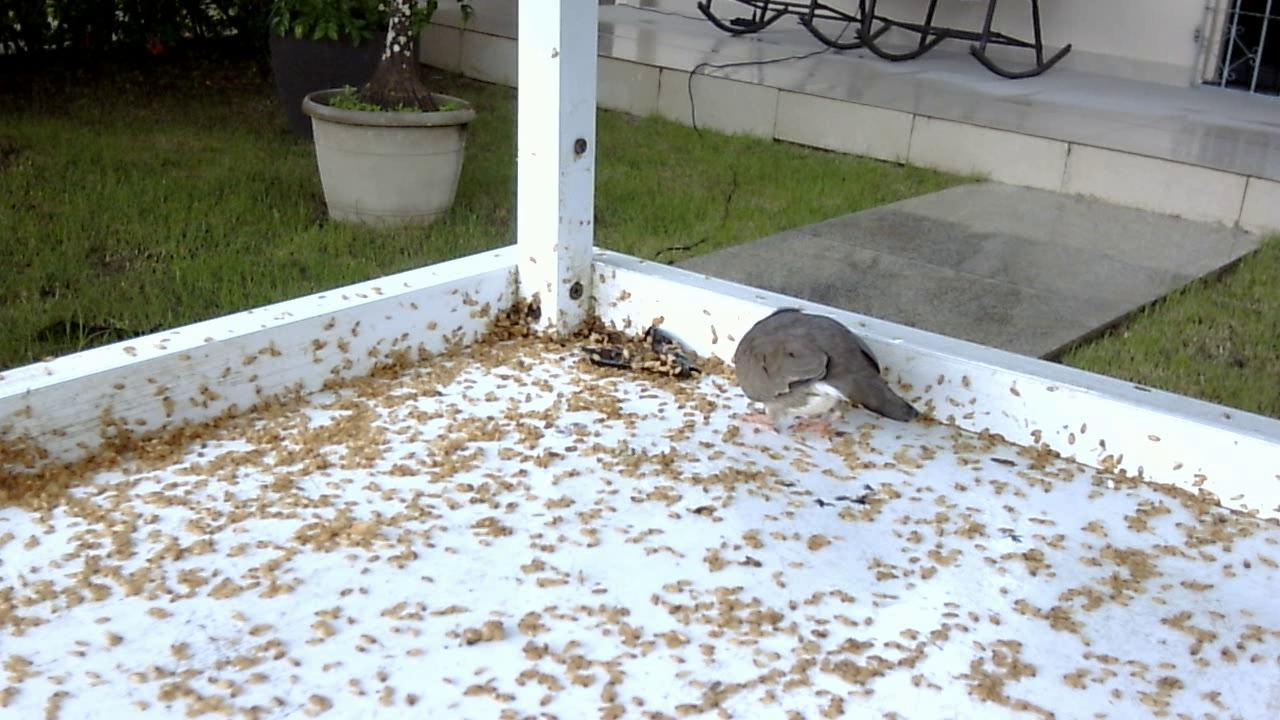rolinha: (717, 299, 934, 444)
